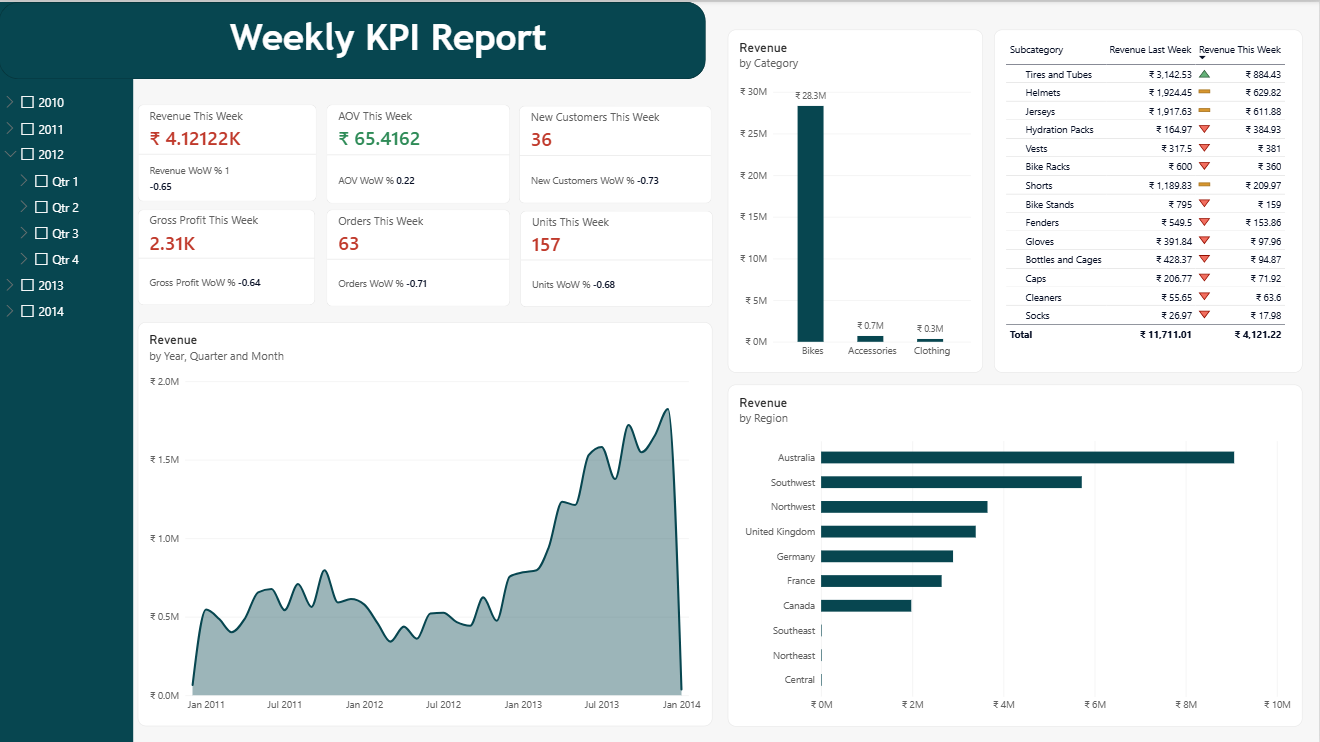

The dashboard page shown, as its layout file describes it:
{"tool":"powerbi","page":{"name":"Page 1","canvas":[1920,1080],"ordinal":0},"visuals":[{"type":"shape","box":[0,0,195.4,1080.4],"z":0},{"type":"shape","box":[0,0,1027.9,112.2],"z":1000},{"type":"slicer","fields":{"Values":["Weeks.WeekStart.Variation.Date Hierarchy.Year","Weeks.WeekStart.Variation.Date Hierarchy.Quarter","Weeks.WeekStart.Variation.Date Hierarchy.Month","Weeks.WeekStart.Variation.Date Hierarchy.Day"]},"box":[0,126.7,179.2,678.6],"z":2000},{"type":"cardVisual","fields":{"Data":["_Measures (3).Revenue This Week"]},"box":[202.7,148.4,260.6,141.2],"z":3000},{"type":"cardVisual","fields":{"Data":["_Measures (3).New Customers This Week"]},"box":[756.4,150.2,280.5,143],"z":4000},{"type":"cardVisual","fields":{"Data":["_Measures (3).Units This Week"]},"box":[757.3,302.9,280,140],"z":5000},{"type":"cardVisual","fields":{"Data":["_Measures (3).Orders This Week"]},"box":[475.9,302.2,267.8,141.2],"z":6000},{"type":"cardVisual","fields":{"Data":["_Measures (3).AOV This Week"]},"box":[475.9,148.4,267.8,144.8],"z":7000},{"type":"cardVisual","fields":{"Data":["_Measures (3).Gross Profit This Week"]},"box":[202.7,302.2,258.8,139.3],"z":8000},{"type":"lineChart","fields":{"Category":["vw_KPI_Sales.WeekStart.Variation.Date Hierarchy.Year","vw_KPI_Sales.WeekStart.Variation.Date Hierarchy.Quarter","vw_KPI_Sales.WeekStart.Variation.Date Hierarchy.Month"],"Y":["_Measures (3).Revenue"]},"box":[202.7,465.1,836.1,588.1],"z":9000},{"type":"clusteredColumnChart","fields":{"Category":["vw_KPI_Sales.Category"],"Y":["_Measures (3).Revenue"]},"box":[1060.5,39.8,371,499.5],"z":10000},{"type":"clusteredBarChart","fields":{"Category":["vw_KPI_Sales.Region"],"Y":["_Measures (3).Revenue"]},"box":[1060.5,555.6,836.1,497.7],"z":11000},{"type":"textbox","box":[123.1,0,884.9,126.7],"z":12000},{"type":"textbox","box":[0,379,836,150],"z":13000},{"type":"tableEx","fields":{"Values":["vw_KPI_Sales.Subcategory","_Measures (3).Revenue Last Week","_Measures (3).Revenue This Week"]},"box":[1447.7,39.8,448.8,499.5],"z":13001}]}

Visuals, with their boxes on the page's 1920x1080 design canvas (x1, y1, x2, y2). These are canvas units, not pixel positions in the 1320x742 screenshot, which may show the page scaled, cropped or inside an application window:
shape: {"left": 0, "top": 0, "right": 195, "bottom": 1080}
shape: {"left": 0, "top": 0, "right": 1028, "bottom": 112}
slicer - Weeks.WeekStart.Variation.Date Hierarchy.Year x Weeks.WeekStart.Variation.Date Hierarchy.Quarter: {"left": 0, "top": 127, "right": 179, "bottom": 805}
cardVisual - _Measures (3).Revenue This Week: {"left": 203, "top": 148, "right": 463, "bottom": 290}
cardVisual - _Measures (3).New Customers This Week: {"left": 756, "top": 150, "right": 1037, "bottom": 293}
cardVisual - _Measures (3).Units This Week: {"left": 757, "top": 303, "right": 1037, "bottom": 443}
cardVisual - _Measures (3).Orders This Week: {"left": 476, "top": 302, "right": 744, "bottom": 443}
cardVisual - _Measures (3).AOV This Week: {"left": 476, "top": 148, "right": 744, "bottom": 293}
cardVisual - _Measures (3).Gross Profit This Week: {"left": 203, "top": 302, "right": 462, "bottom": 442}
lineChart - vw_KPI_Sales.WeekStart.Variation.Date Hierarchy.Year x vw_KPI_Sales.WeekStart.Variation.Date Hierarchy.Quarter: {"left": 203, "top": 465, "right": 1039, "bottom": 1053}
clusteredColumnChart - vw_KPI_Sales.Category x _Measures (3).Revenue: {"left": 1060, "top": 40, "right": 1432, "bottom": 539}
clusteredBarChart - vw_KPI_Sales.Region x _Measures (3).Revenue: {"left": 1060, "top": 556, "right": 1897, "bottom": 1053}
textbox: {"left": 123, "top": 0, "right": 1008, "bottom": 127}
textbox: {"left": 0, "top": 379, "right": 836, "bottom": 529}
tableEx - vw_KPI_Sales.Subcategory x _Measures (3).Revenue Last Week: {"left": 1448, "top": 40, "right": 1896, "bottom": 539}
